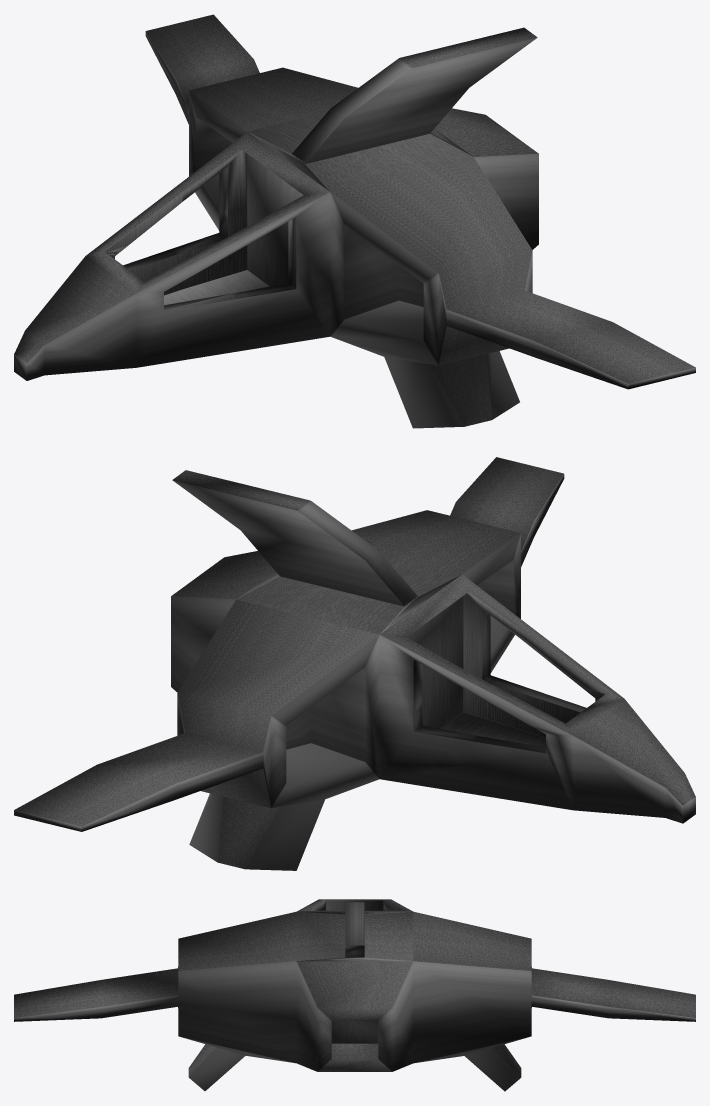
Rendered from spaceship_3.FBX.
3 renders of one model, top to bottom at view 1: azimuth 30°, elevation 25°; view 2: azimuth 150°, elevation 25°; view 3: azimuth 270°, elevation 25°, orthographic. The views are drawn at different scales.
Visible parts, largest first — view 1: Spaceship; view 2: Spaceship; view 3: Spaceship.
Boxes of the visible parts, bbox=[...] form: Spaceship: bbox=[14, 14, 695, 428]; Spaceship: bbox=[14, 457, 695, 870]; Spaceship: bbox=[14, 899, 695, 1091].
Size of the model in its own units: 138 by 67.91 by 225.
Materials: 1 (1 with a texture image).
